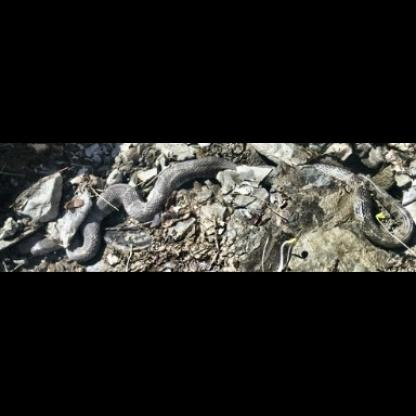Snake: (17, 143, 410, 252)
